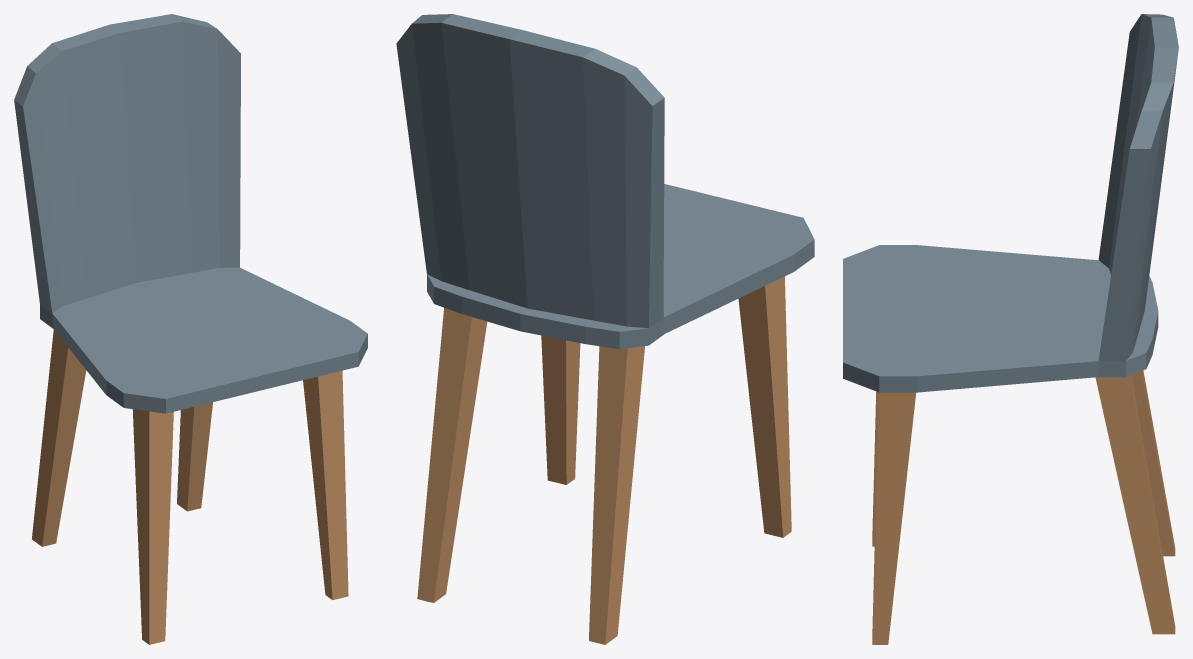
Rendered from chair.glb.
3 renders of one model, left to right at view 1: azimuth 30°, elevation 25°; view 2: azimuth 150°, elevation 25°; view 3: azimuth 270°, elevation 25°, orthographic. The views are drawn at different scales.
Parts seen in each view (by area): view 1: Cube; view 2: Cube; view 3: Cube.
Part boxes in pixels (left/top/right/bottom): Cube: left=14, top=14, right=367, bottom=644; Cube: left=396, top=14, right=814, bottom=644; Cube: left=843, top=14, right=1178, bottom=644.
Size of the model in its own units: 0.5 by 0.967 by 0.541.
